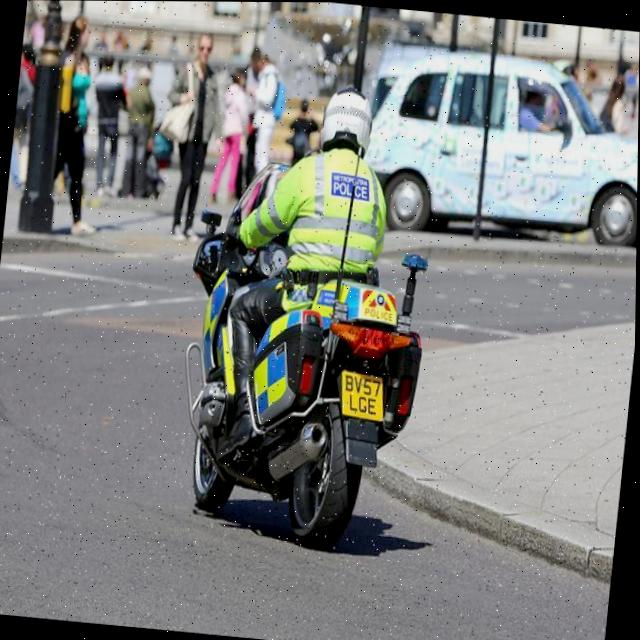car: (334, 32, 640, 256)
motorcycle: (139, 212, 449, 556)
plate: (332, 364, 393, 424)
